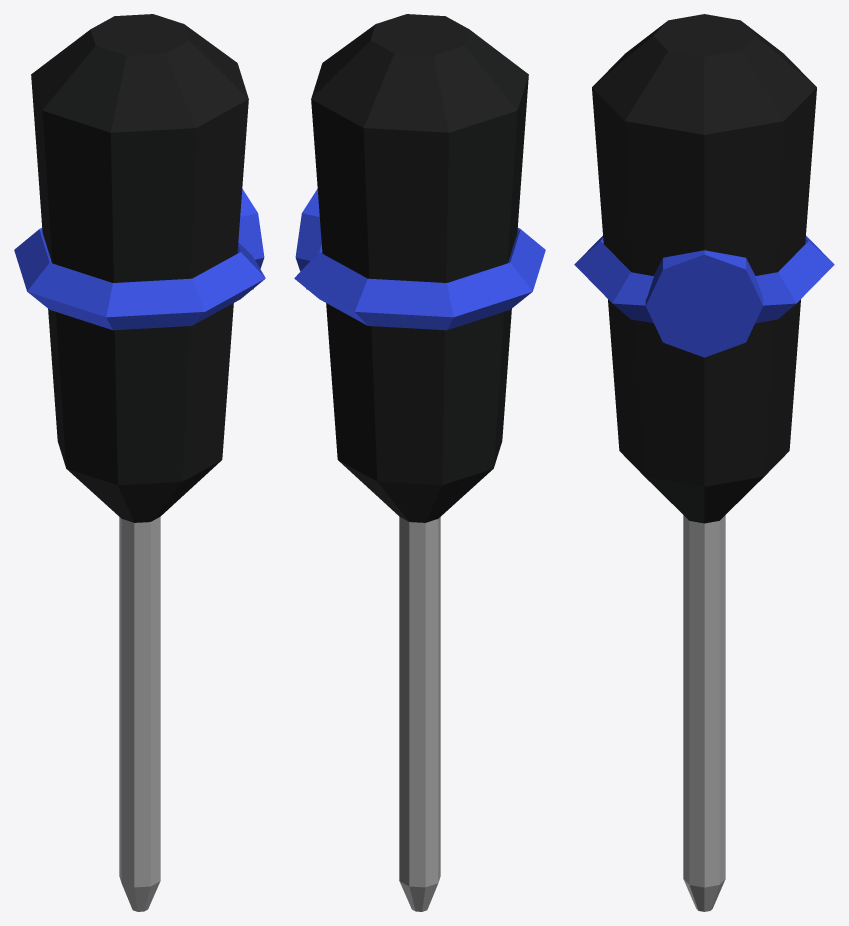
Rendered from screwdriver_blue.gltf.
3 renders of one model, left to right at view 1: azimuth 30°, elevation 25°; view 2: azimuth 150°, elevation 25°; view 3: azimuth 270°, elevation 25°, orthographic.
Parts seen in each view (by area): view 1: Cylinder, Circle; view 2: Cylinder, Circle; view 3: Cylinder, Circle.
Part boxes in pixels (box(x1,y1,x2,y2)): Cylinder: box(31, 14, 248, 911); Circle: box(14, 189, 265, 330); Cylinder: box(311, 14, 528, 911); Circle: box(294, 189, 545, 330); Cylinder: box(592, 14, 816, 911); Circle: box(574, 236, 834, 357).
Size of the model in its own units: 1.94 by 7.66 by 2.07.
